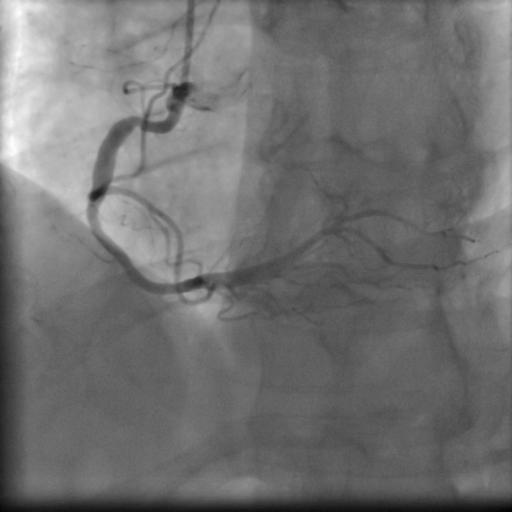Stenosis: (84, 200, 103, 225)
